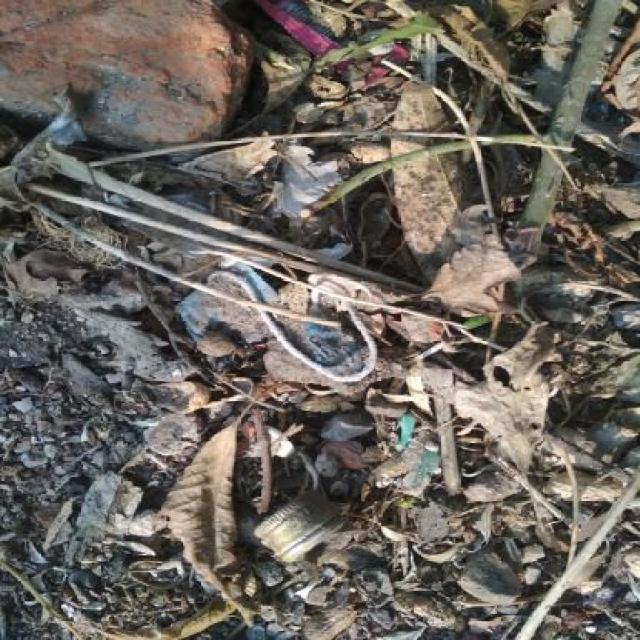garbage: (26, 152, 634, 444), (42, 480, 613, 634), (250, 13, 639, 139)
